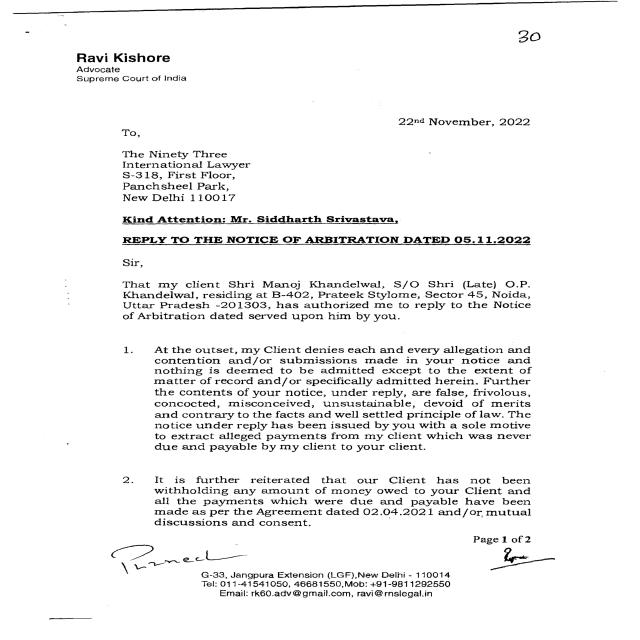page-number: (226, 0, 640, 85)
